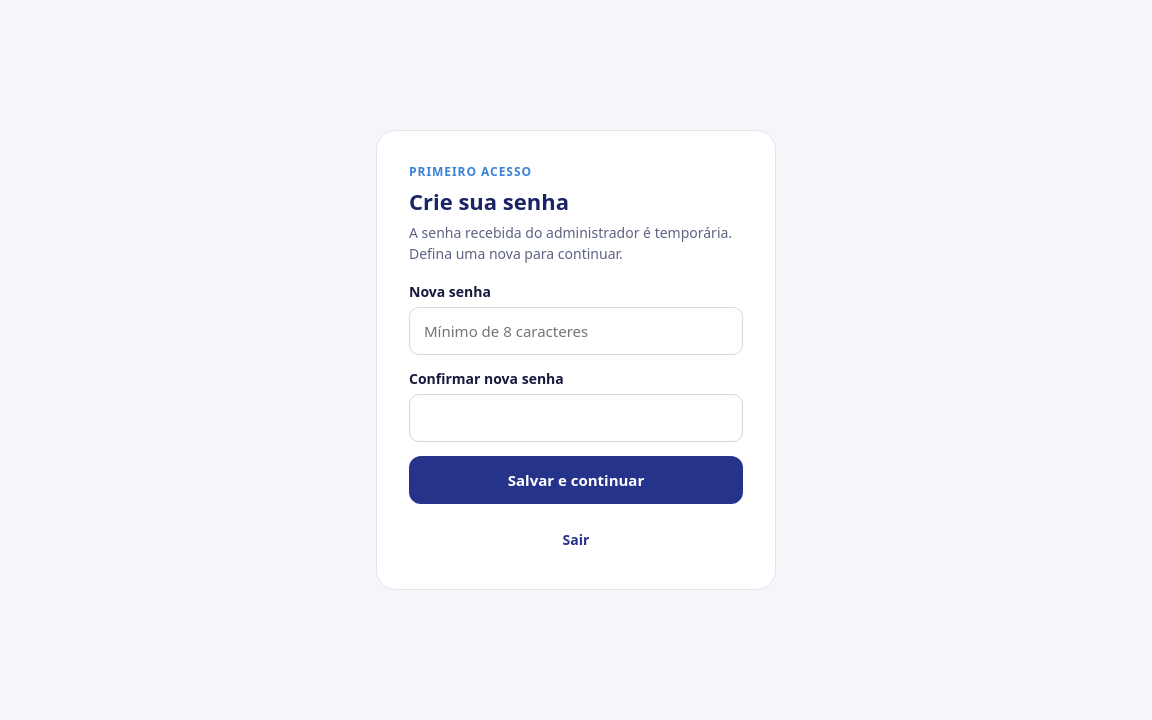
Test: troca de senha obrigatória › no 1º acesso pede nova senha e depois abre "Minhas reservas"
Expected: the heading "Crie sua senha" is shown, [409,186,569,216]
Step 1. Type "nova-senha-456" into the password field labelled "Nova senha" → [576, 331], box [409,307,743,355]
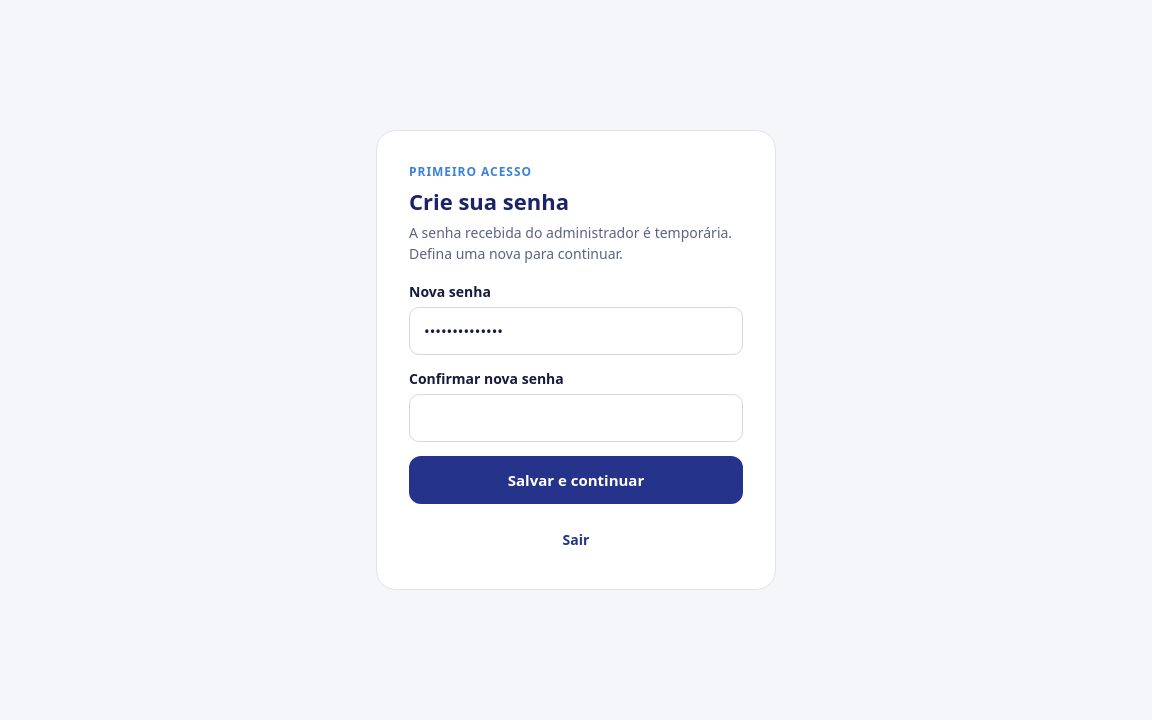
Step 2. Type "nova-senha-456" into the password field labelled "Confirmar nova senha" → [576, 418], box [409,394,743,442]
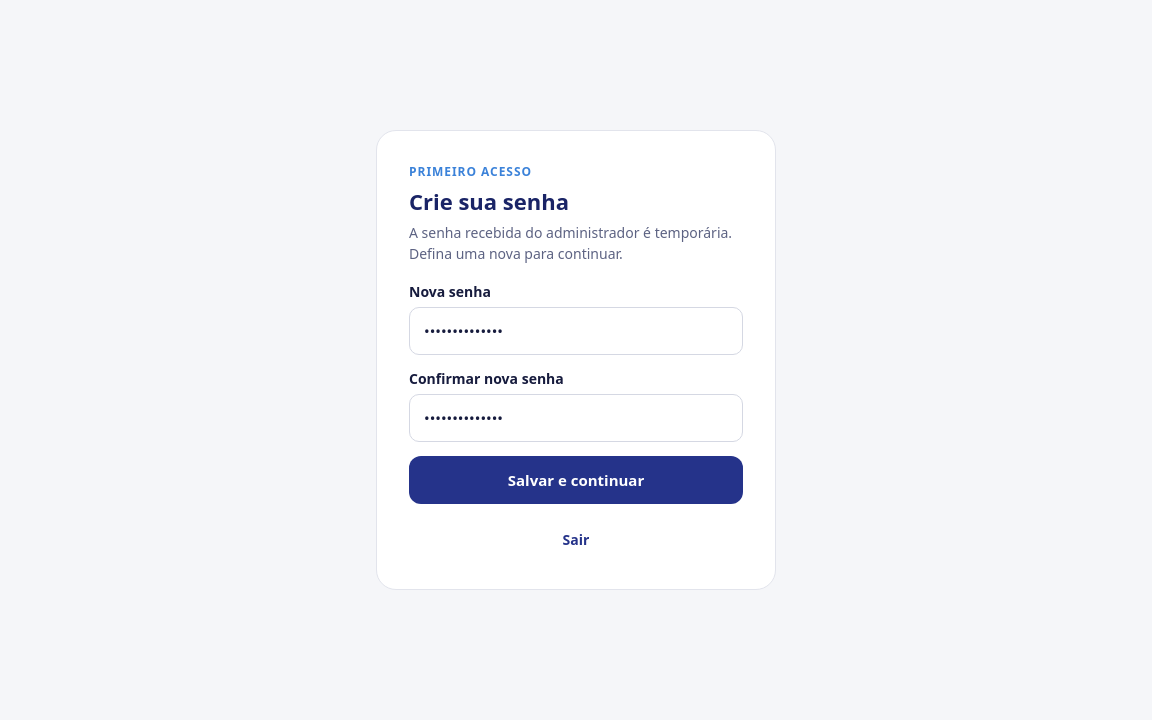
Step 3. Click the button "Salvar e continuar" → [576, 480], box [409,456,743,504]
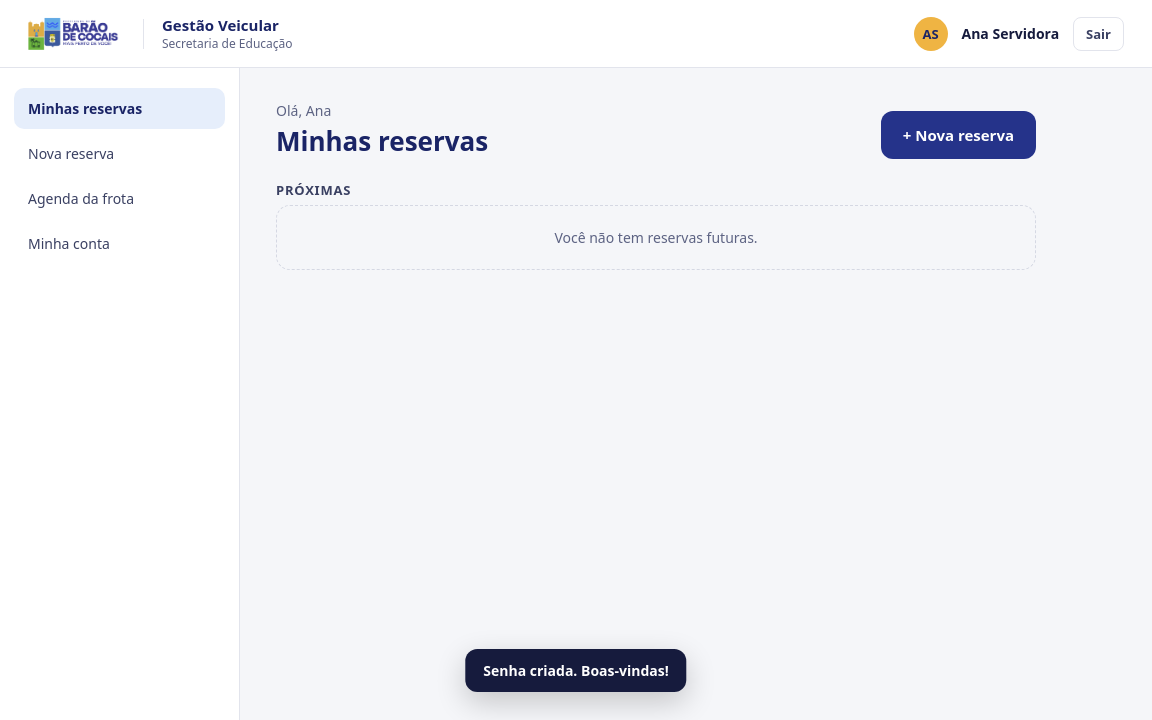
Now the heading "Minhas reservas" is shown, box [276,123,488,159]
Now the text "Senha criada. Boas-vindas!" is shown, box [465,649,687,692]
